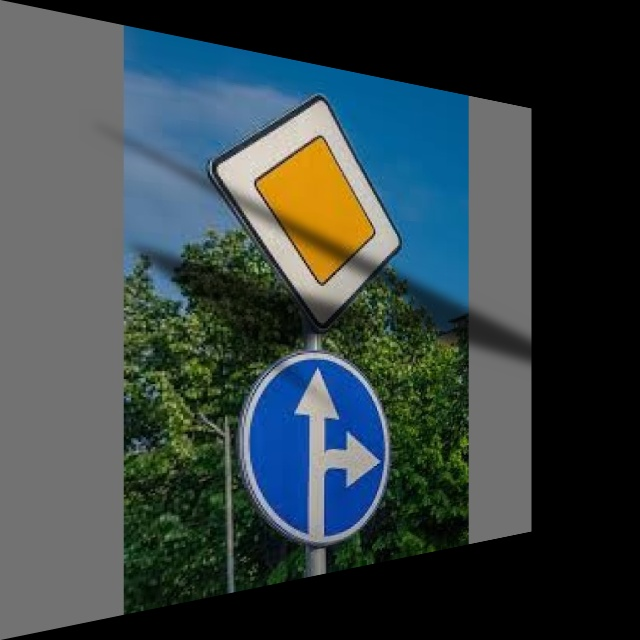Compulsory_Ahead_or_Turn_Right: (243, 346, 390, 557)
